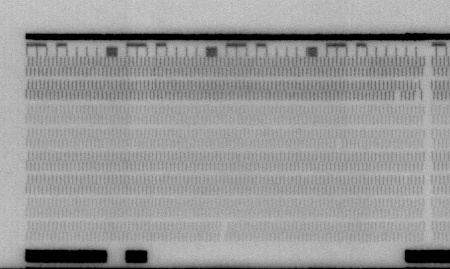Broken hole: (217, 220, 231, 243), (333, 137, 345, 149), (413, 88, 423, 102), (393, 90, 403, 103)
Oblique printing: (410, 78, 423, 92)
